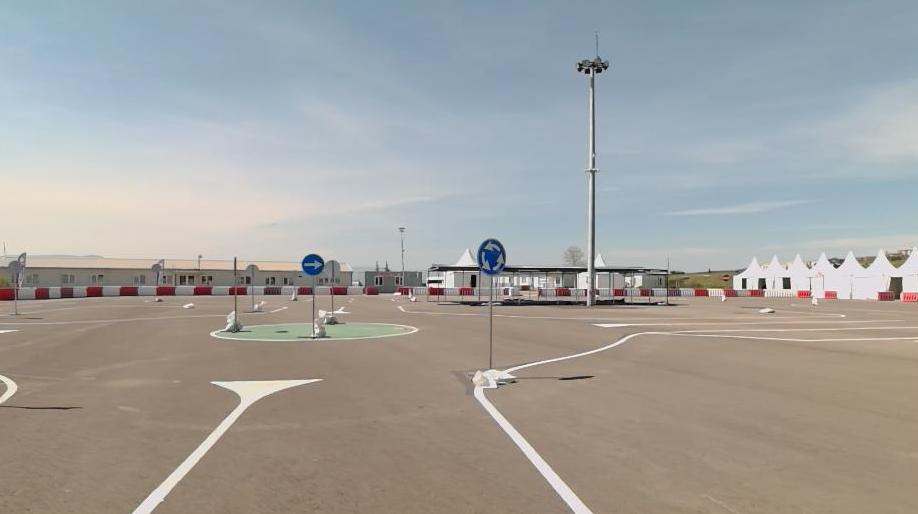nesne: (132, 400, 593, 513), (0, 398, 253, 514), (130, 378, 318, 512), (474, 390, 591, 511), (507, 332, 634, 370), (238, 320, 416, 341), (210, 321, 311, 339), (476, 237, 506, 276), (471, 368, 516, 386), (301, 252, 324, 276), (312, 308, 326, 337), (489, 276, 493, 366), (225, 309, 242, 328), (17, 287, 36, 300), (120, 285, 137, 297), (176, 285, 195, 295), (36, 286, 49, 300), (102, 286, 120, 296), (138, 285, 156, 295), (156, 286, 176, 295), (264, 286, 282, 296), (213, 285, 230, 295), (282, 286, 299, 296), (88, 287, 103, 298), (348, 285, 363, 296), (195, 286, 213, 295), (73, 287, 88, 297), (333, 285, 348, 295), (49, 286, 60, 299), (61, 287, 73, 298), (311, 277, 314, 318), (365, 286, 378, 295), (300, 287, 312, 296), (237, 286, 246, 295), (255, 285, 263, 295)
